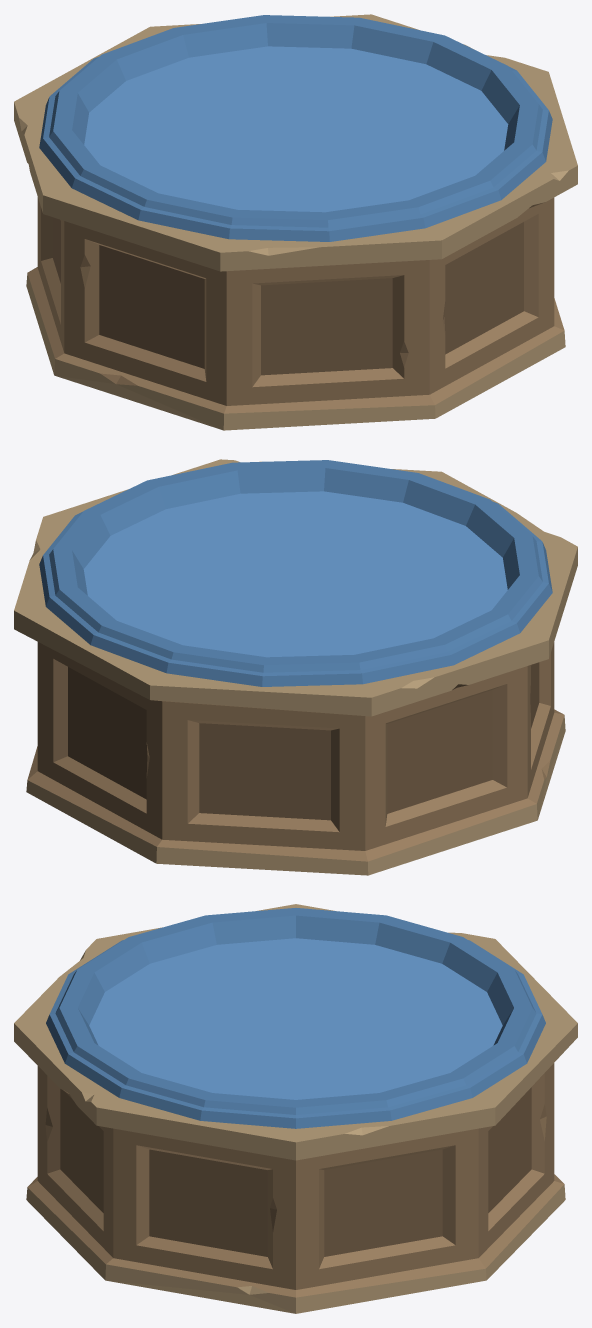
The model's file is SM_Prop_Pool_Spa_01.fbx.
3 views of the same model, one above another, from view 1: azimuth 30°, elevation 25°; view 2: azimuth 150°, elevation 25°; view 3: azimuth 270°, elevation 25° (orthographic). The views are drawn at different scales.
Parts seen in each view (by area): view 1: SM_Prop_Pool_Spa_01, SM_Prop_Pool_Spa_Water_01; view 2: SM_Prop_Pool_Spa_01, SM_Prop_Pool_Spa_Water_01; view 3: SM_Prop_Pool_Spa_01, SM_Prop_Pool_Spa_Water_01.
Part boxes in pixels (x1,y1,x2,y2): SM_Prop_Pool_Spa_01: (14,14,577,430); SM_Prop_Pool_Spa_Water_01: (84,46,508,212); SM_Prop_Pool_Spa_01: (14,459,577,875); SM_Prop_Pool_Spa_Water_01: (83,491,507,657); SM_Prop_Pool_Spa_01: (14,904,577,1313); SM_Prop_Pool_Spa_Water_01: (89,938,502,1099).
Bounding box in the file's own units: 377 × 142 × 377.
